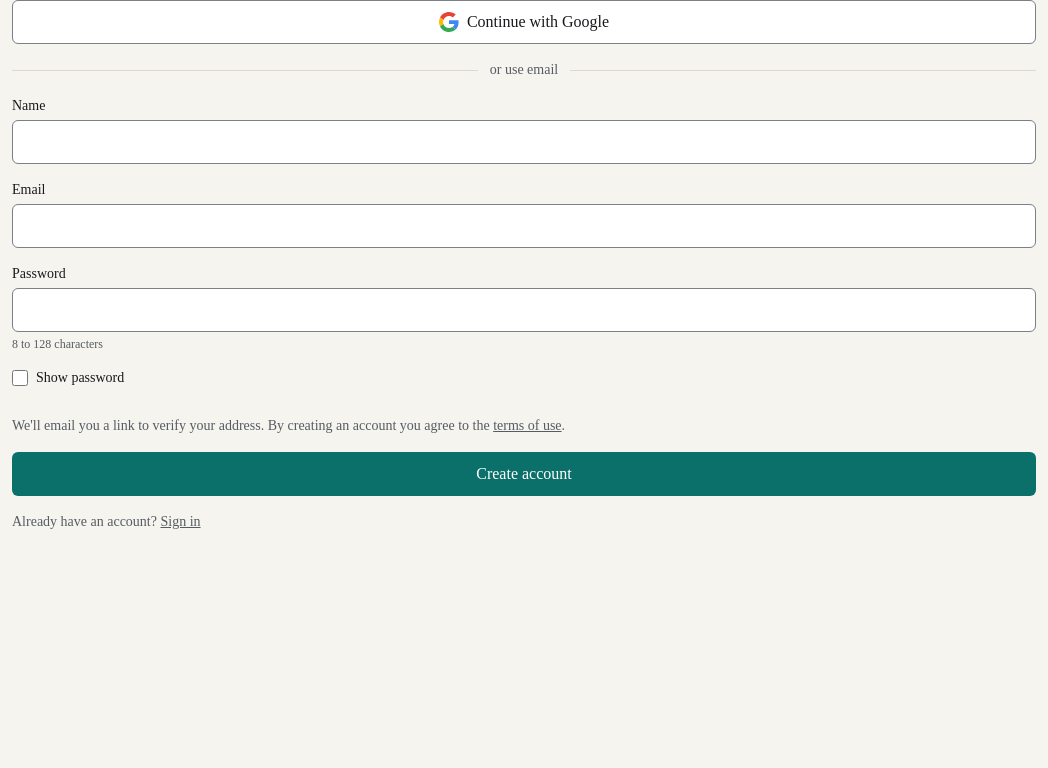
Test: SignupForm › maps 409 to an email field error with a sign-in link
Type "Ada" into the field labelled "Name". click: (524, 142)
box: [12,120,1036,164]
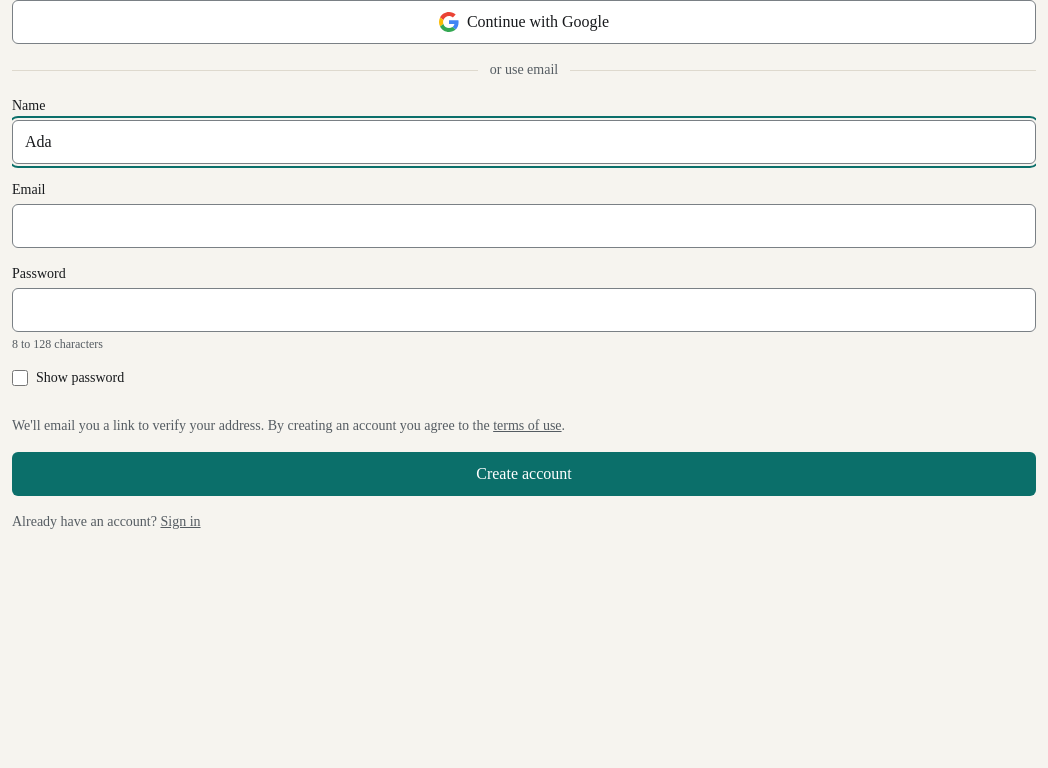
Type "ada@example.com" into the field labelled "Email". click: (524, 226)
box: [12,204,1036,248]
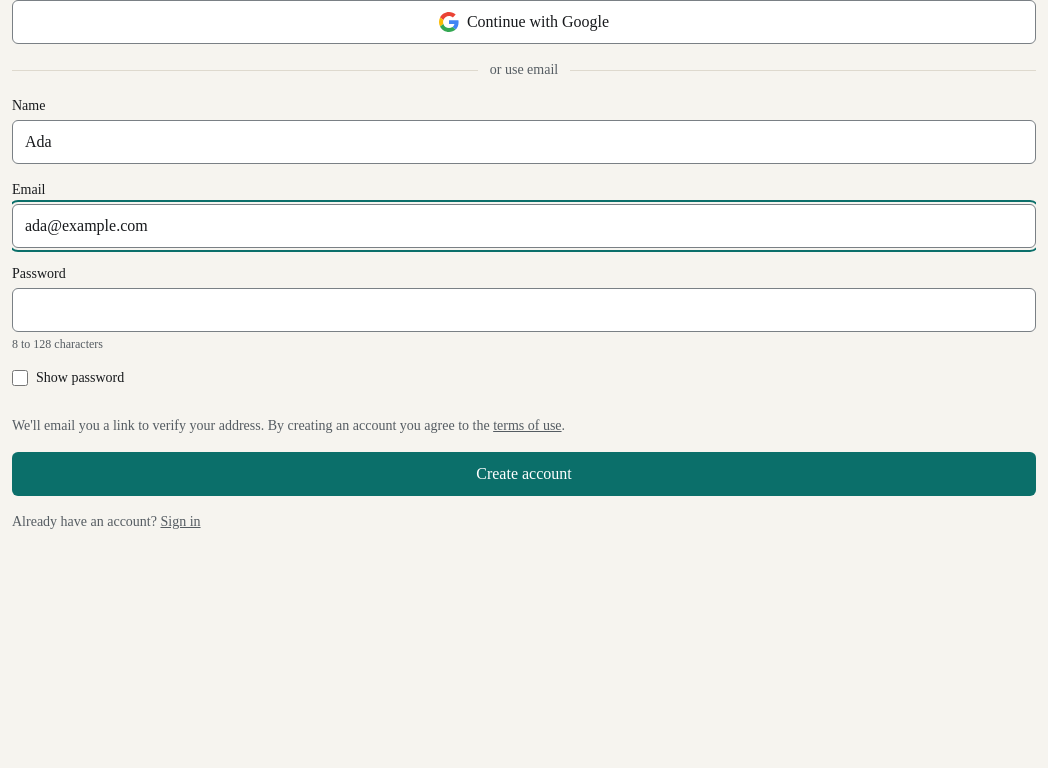
Type "long-enough-pw" into the password field labelled "Password". click: (524, 310)
box: [12,288,1036,332]
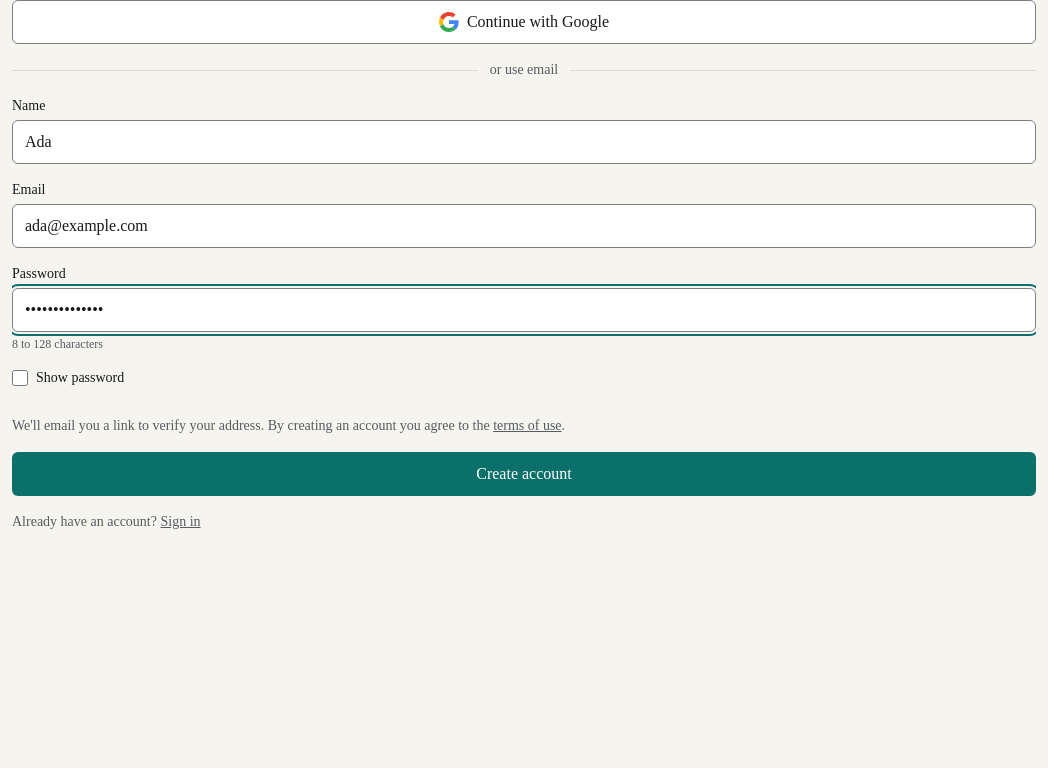
Click the button "Create account". click: (524, 474)
box: [12,452,1036,496]
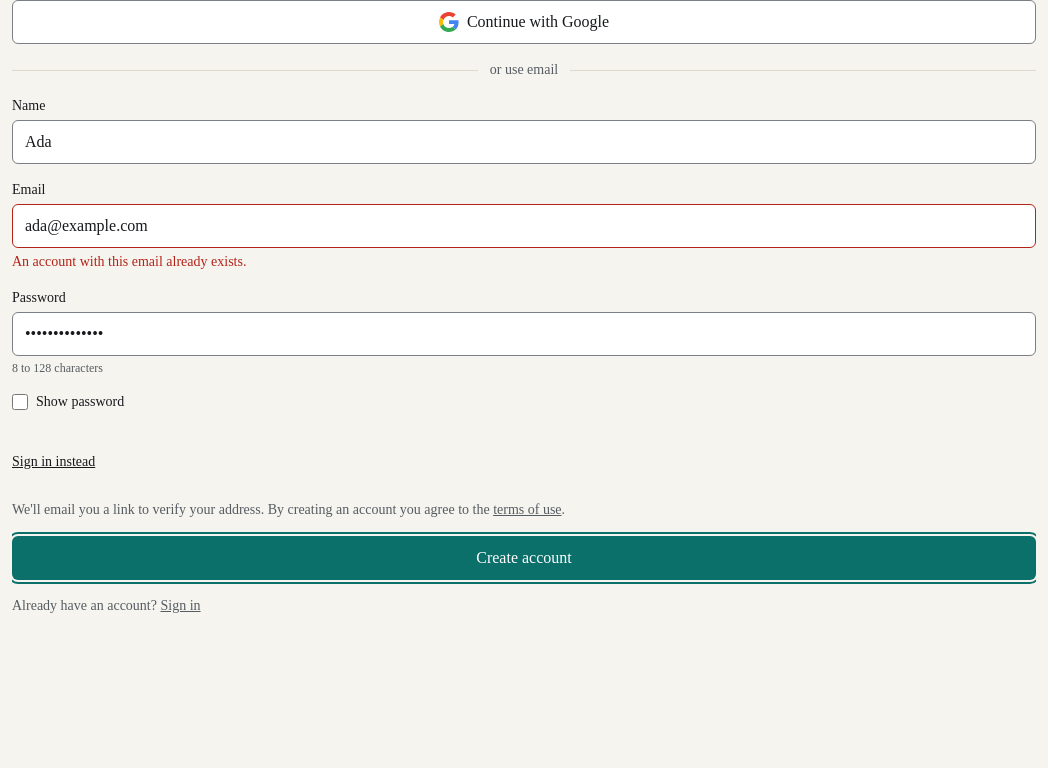
Result: the text "An account with this email already exists." is shown at [12,254,246,269]
